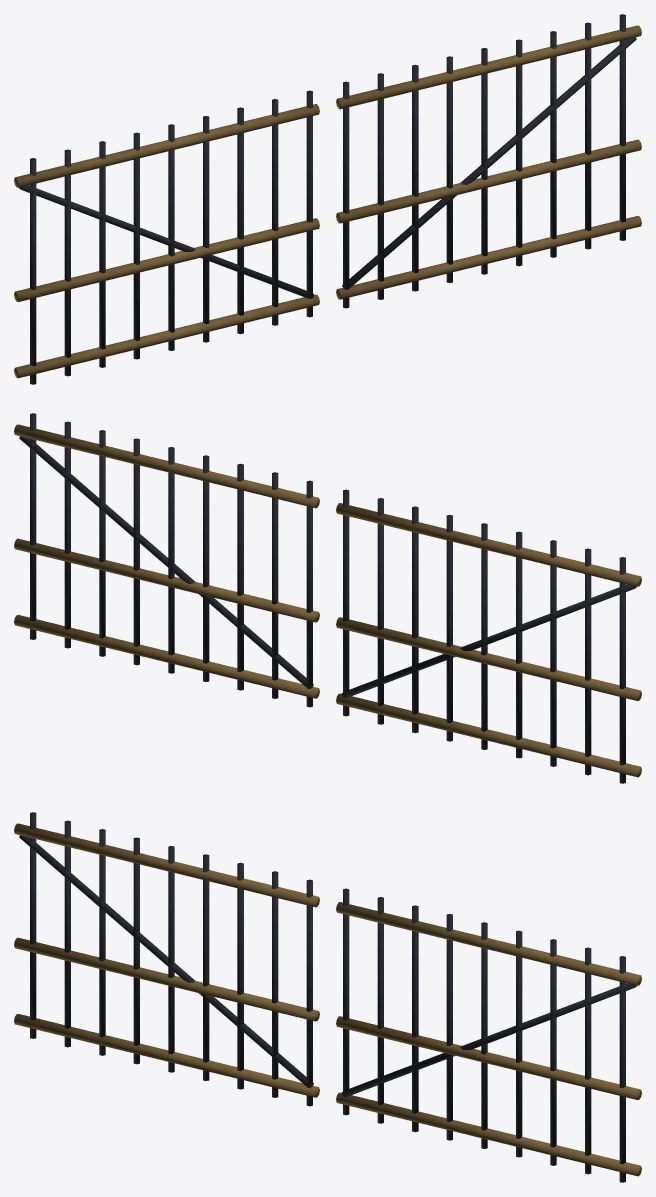
Rendered from gate.glb.
3 views of the same model, one above another, from view 1: azimuth 30°, elevation 25°; view 2: azimuth 150°, elevation 25°; view 3: azimuth 330°, elevation 25° (orthographic).
Parts seen in each view (by area): view 1: Rebuilt_gate; view 2: Rebuilt_gate; view 3: Rebuilt_gate.
Boxes of the visible parts, box(x1,y1,x2,y2) form: Rebuilt_gate: box(14, 14, 641, 384); Rebuilt_gate: box(14, 413, 641, 783); Rebuilt_gate: box(14, 812, 641, 1182).
Bounding box in the file's own units: 6.84 × 2.35 × 0.11.
Materials: 2 (2 with a texture image).
